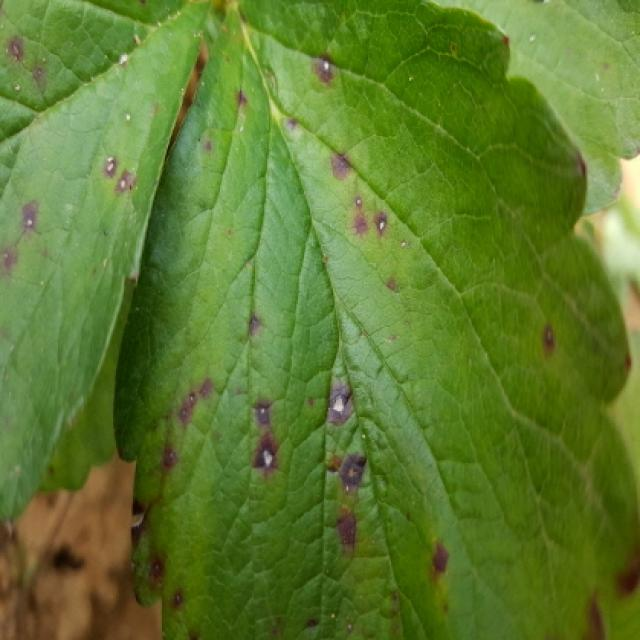Leaf Spot: (114, 0, 640, 638), (2, 0, 220, 523)
